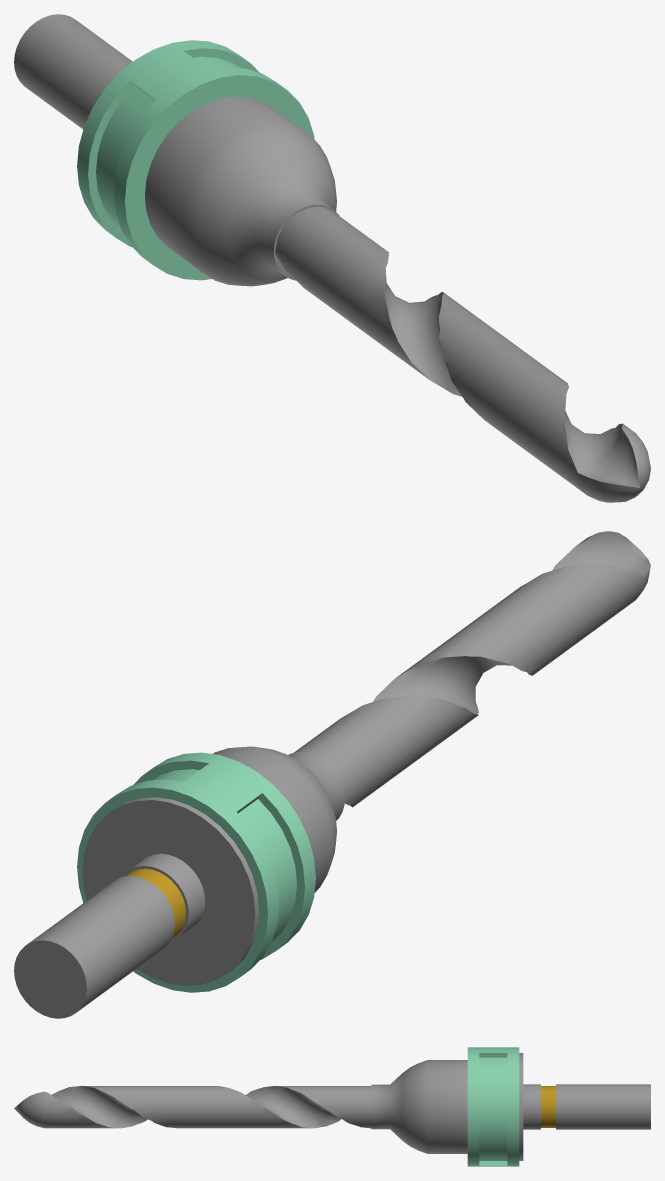
Rendered from ToolDrill3.fbx.
The picture shows the model from 3 angles, top to bottom: view 1: azimuth 30°, elevation 25°; view 2: azimuth 150°, elevation 25°; view 3: azimuth 270°, elevation 25°; orthographic projection. The views are drawn at different scales.
Visible parts, largest first — view 1: ToolDrill3; view 2: ToolDrill3; view 3: ToolDrill3.
Part boxes in pixels (box(x1,y1,x2,y2)): ToolDrill3: box(14, 14, 650, 502); ToolDrill3: box(14, 531, 650, 1018); ToolDrill3: box(14, 1047, 650, 1166).
Size of the model in its own units: 1.24 by 1.24 by 6.65.
